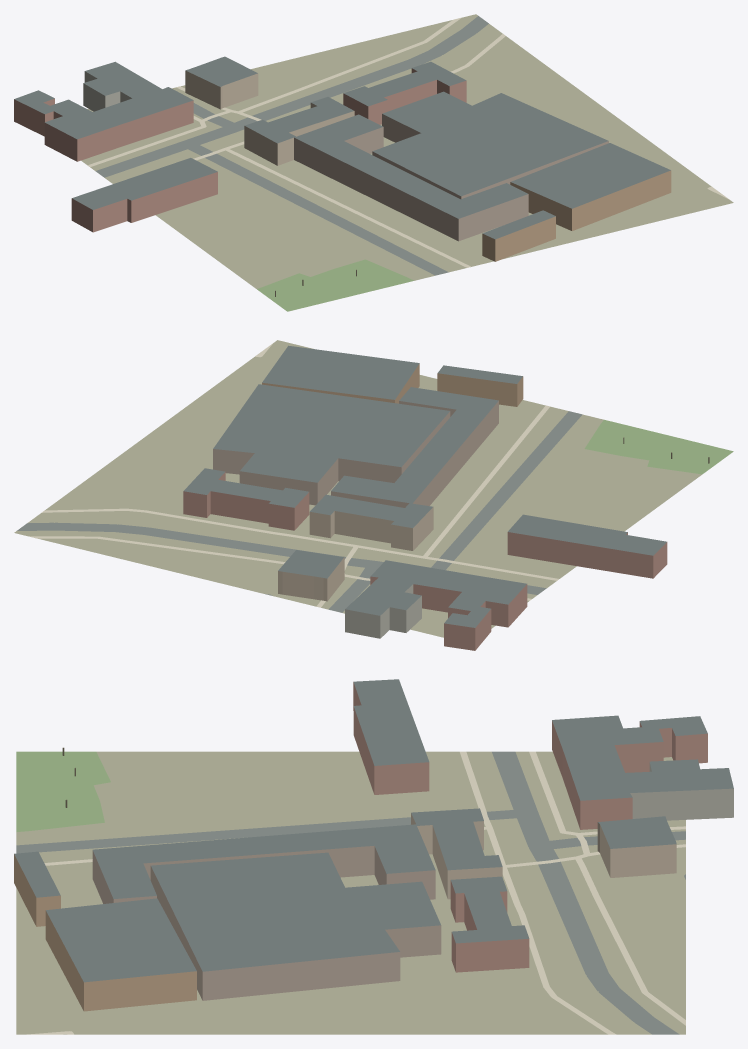
Rendered from sector-2_-5.glb.
The picture shows the model from 3 angles, top to bottom: view 1: azimuth 30°, elevation 25°; view 2: azimuth 150°, elevation 25°; view 3: azimuth 270°, elevation 25°; orthographic projection. The views are drawn at different scales.
Visible parts, largest first — view 1: 2:-5-ground, 2:-5-roof, 2:-5-facade, 2:-5-road, 2:-5-park, 2:-5-paving; view 2: 2:-5-ground, 2:-5-roof, 2:-5-facade, 2:-5-road, 2:-5-park, 2:-5-paving; view 3: 2:-5-ground, 2:-5-roof, 2:-5-facade, 2:-5-road, 2:-5-park, 2:-5-paving.
Boxes of the visible parts, x1,y1,x2,y2 form: 2:-5-ground: (81, 14, 733, 288); 2:-5-roof: (14, 56, 670, 239); 2:-5-facade: (14, 68, 671, 261); 2:-5-road: (95, 16, 488, 275); 2:-5-park: (257, 259, 413, 311); 2:-5-paving: (88, 17, 729, 267); 2:-5-ground: (14, 340, 701, 637); 2:-5-roof: (183, 345, 666, 627); 2:-5-facade: (183, 364, 667, 650); 2:-5-road: (17, 411, 582, 612); 2:-5-park: (584, 419, 733, 474); 2:-5-paving: (29, 343, 558, 607); 2:-5-ground: (16, 751, 685, 1034); 2:-5-roof: (14, 679, 733, 982); 2:-5-facade: (14, 682, 733, 1011); 2:-5-road: (16, 751, 685, 1034); 2:-5-park: (16, 751, 110, 832); 2:-5-paving: (27, 751, 685, 1034).
Bounding box in the file's own units: 231 × 9.6 × 215.
